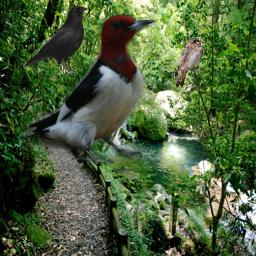Crow: (23, 4, 89, 76)
Swallow: (172, 37, 204, 88)
Woodpecker: (19, 14, 158, 164)
